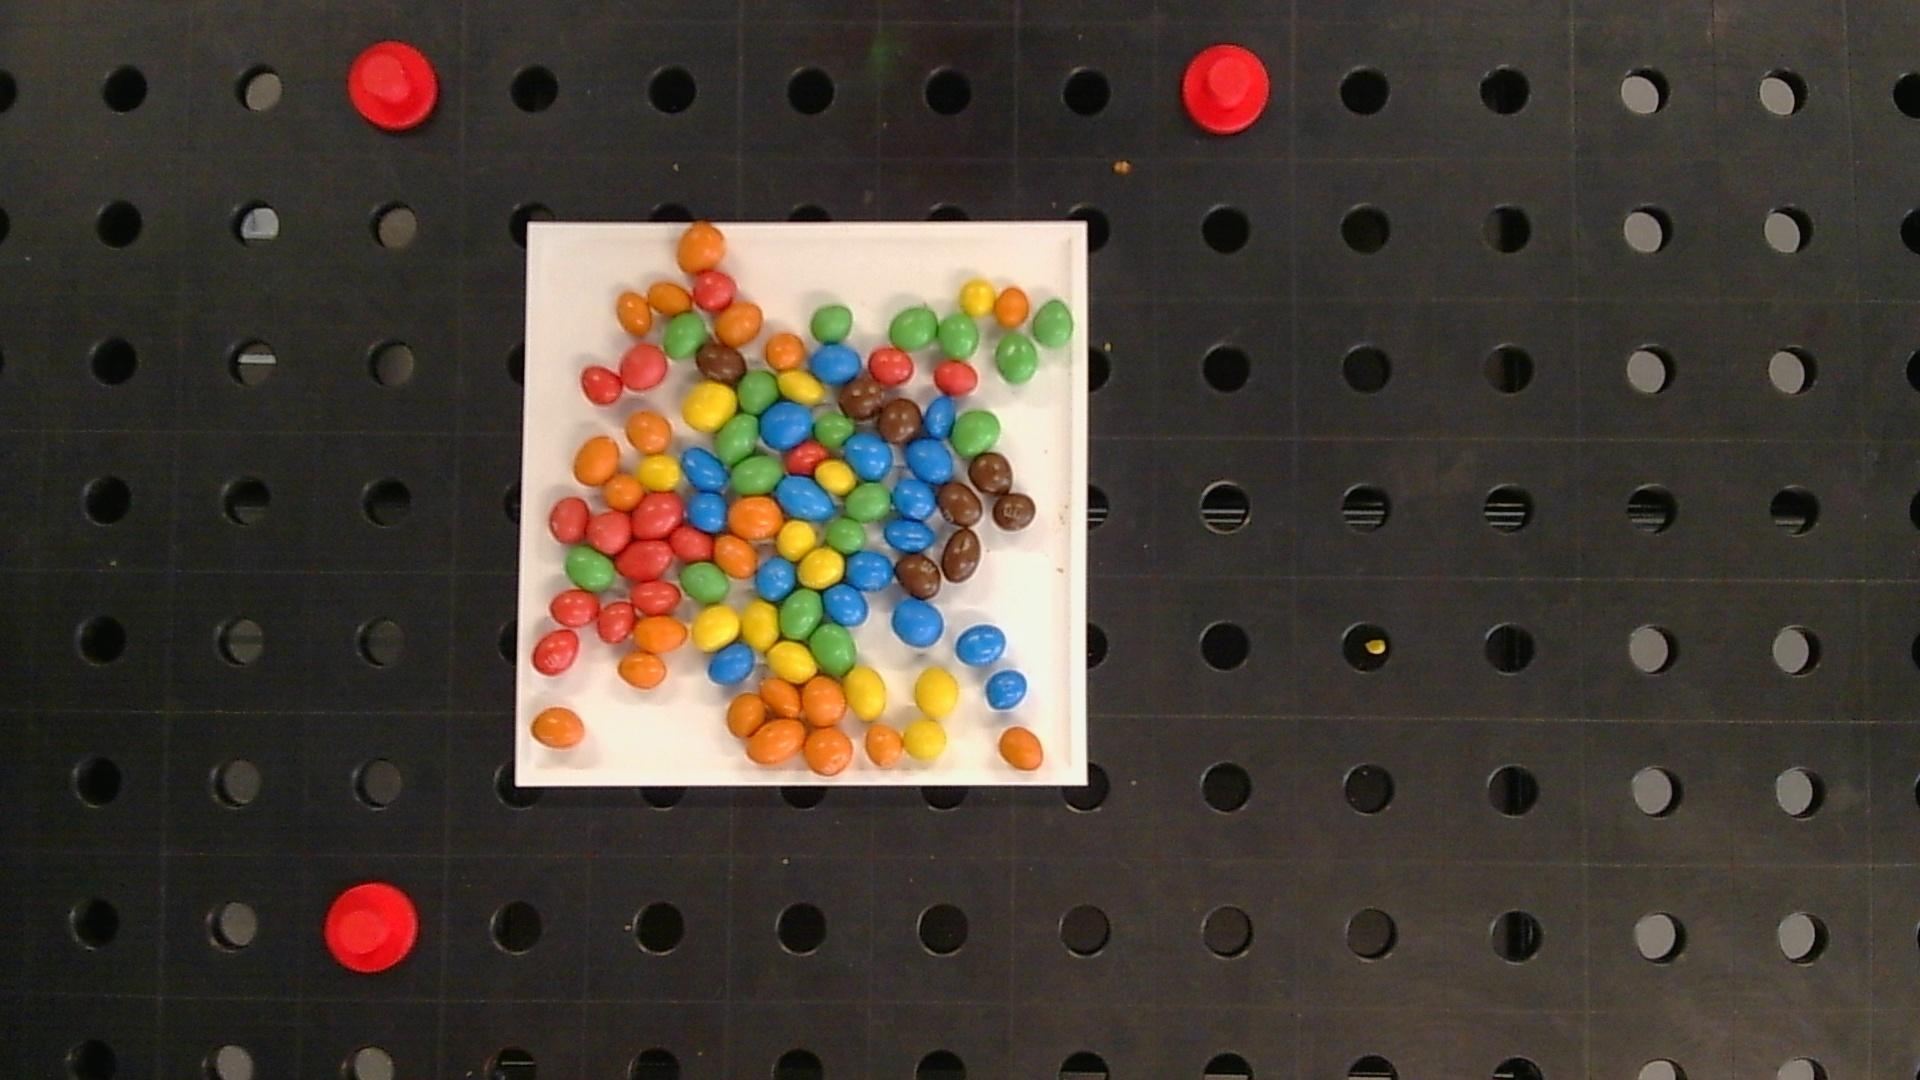blue: (885, 520, 940, 600), (777, 473, 835, 520), (891, 599, 944, 646), (761, 404, 812, 448), (905, 439, 953, 484), (845, 434, 891, 480), (956, 625, 1006, 665), (708, 642, 756, 683), (811, 345, 862, 382), (845, 553, 894, 591), (682, 448, 727, 489), (893, 479, 938, 520), (756, 556, 796, 600), (824, 584, 868, 625), (884, 520, 934, 553), (986, 670, 1027, 709), (687, 491, 727, 530), (924, 397, 956, 439)
brown: (942, 529, 981, 583), (938, 481, 982, 525), (878, 400, 923, 443), (968, 451, 1013, 493), (898, 555, 940, 599), (840, 376, 882, 418), (698, 344, 745, 381), (993, 493, 1035, 530)
green: (811, 622, 856, 674), (564, 547, 615, 591), (889, 306, 938, 349), (779, 589, 823, 638), (716, 414, 760, 463), (996, 334, 1038, 384), (955, 411, 1000, 458), (680, 563, 731, 604), (732, 455, 785, 493), (938, 313, 980, 357), (663, 313, 705, 357), (1033, 301, 1073, 347), (845, 484, 890, 521), (737, 371, 777, 411), (811, 305, 853, 343), (825, 518, 866, 554), (814, 411, 853, 447)
orange: (746, 719, 804, 764), (803, 727, 855, 774), (678, 222, 725, 270), (530, 707, 585, 748), (729, 497, 783, 538), (574, 436, 618, 484), (998, 727, 1044, 770), (803, 678, 845, 725), (713, 534, 757, 578), (634, 616, 687, 651), (716, 303, 762, 343), (626, 411, 671, 451), (618, 653, 666, 688), (727, 692, 766, 735), (864, 725, 903, 766), (617, 293, 651, 336), (761, 678, 800, 715), (604, 473, 644, 509), (766, 332, 803, 368), (649, 282, 691, 313), (996, 287, 1029, 324)
red: (632, 493, 683, 537), (617, 541, 673, 580), (533, 630, 579, 674), (620, 345, 667, 388), (549, 497, 588, 543), (585, 513, 630, 553), (550, 591, 599, 625), (630, 582, 683, 613), (869, 347, 914, 384), (580, 365, 622, 404), (694, 272, 736, 310), (596, 601, 634, 644), (670, 525, 713, 560), (935, 361, 978, 396), (786, 442, 829, 473)
yellow: (683, 382, 737, 430), (914, 667, 959, 717), (845, 667, 886, 720), (692, 605, 740, 650), (767, 642, 816, 682), (799, 547, 844, 588), (741, 603, 778, 649), (903, 720, 945, 760), (777, 521, 818, 558), (777, 372, 823, 404), (638, 454, 680, 488), (816, 460, 856, 495), (960, 280, 997, 315)
